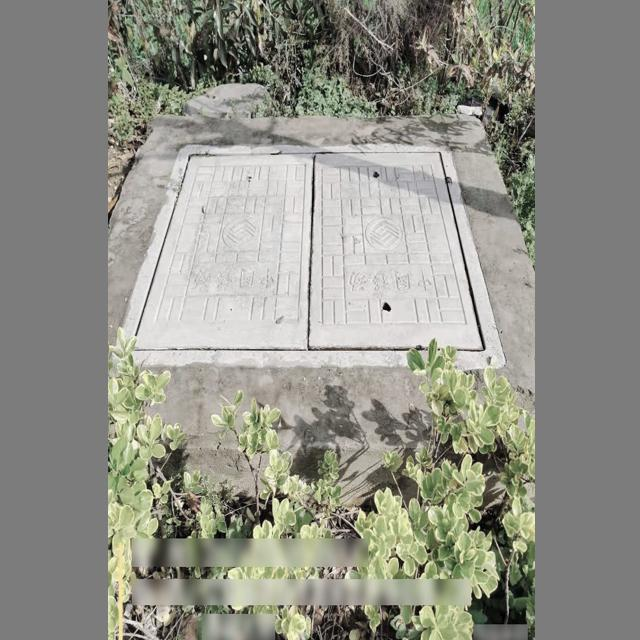good: (108, 144, 506, 366)
